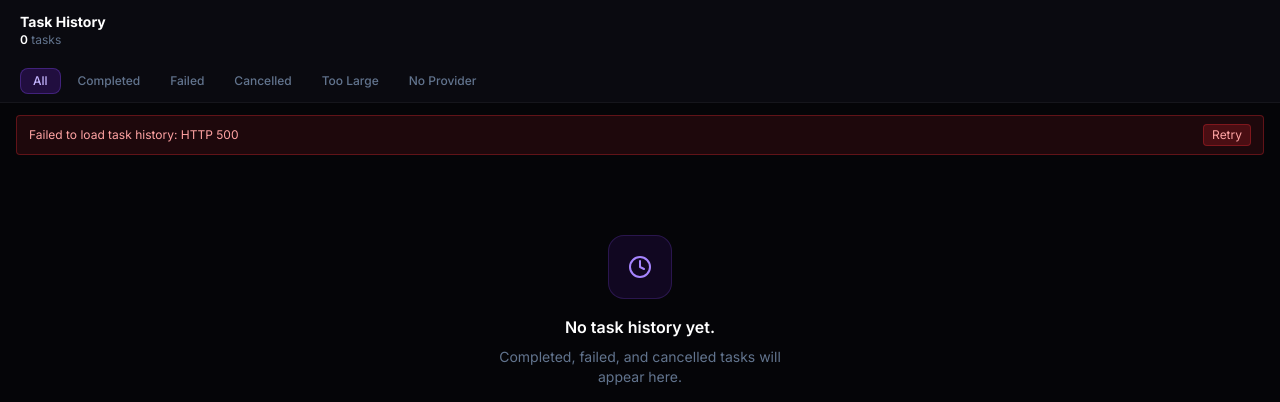
HistoryView — loading › shows the failure with a Retry that reloads
Click the button "Retry": (1227, 135) top-left (1203, 124), bottom-right (1251, 146)
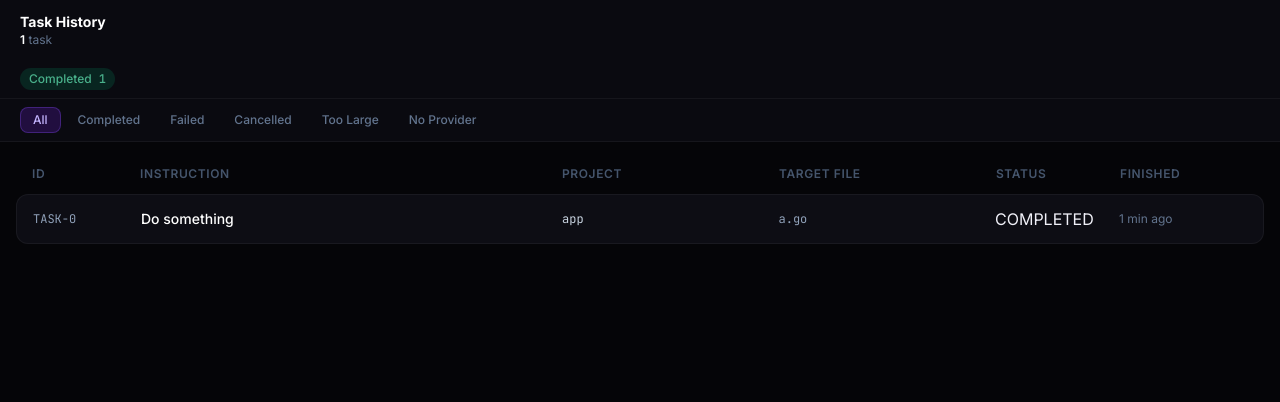
expect the text "Failed to load" is gone: met
expect the number of elements with class "cursor-pointer" is 1: met, box top-left (16, 194), bottom-right (1264, 244)
